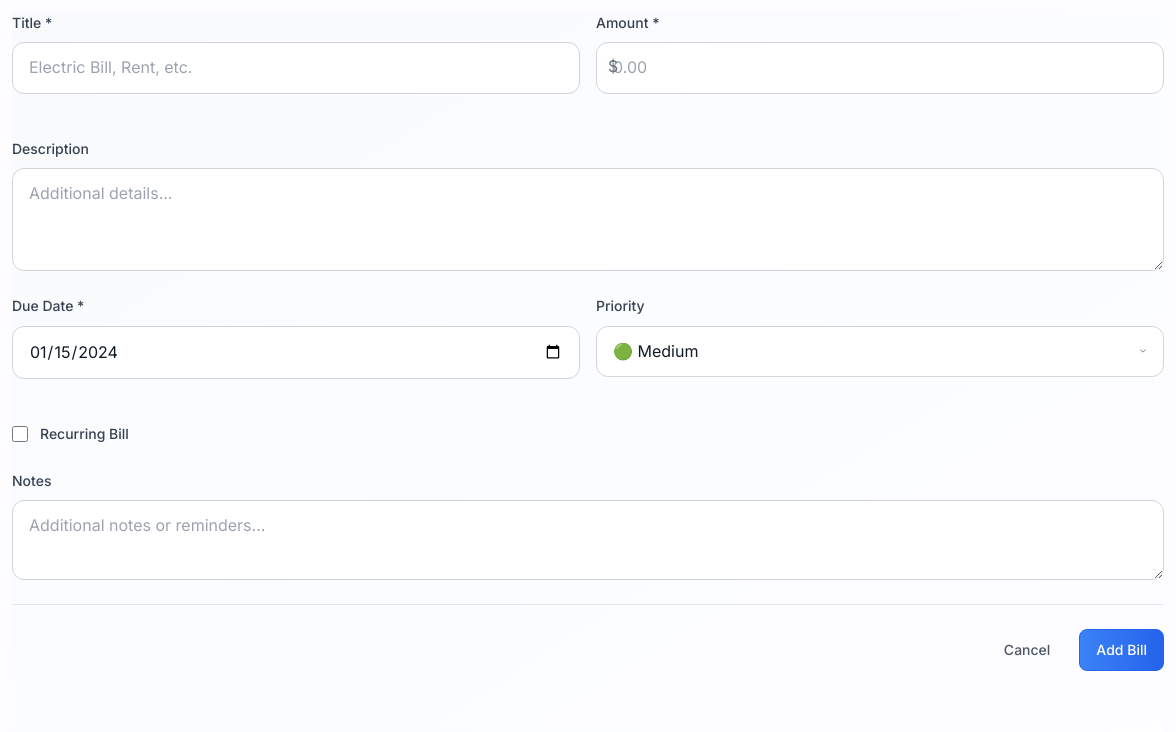
BillForm - Simple Tests › shows recurrence options when recurring is checked
Click the checkbox labelled "Recurring Bill". click: click(20, 434)
box: [12,426,28,442]
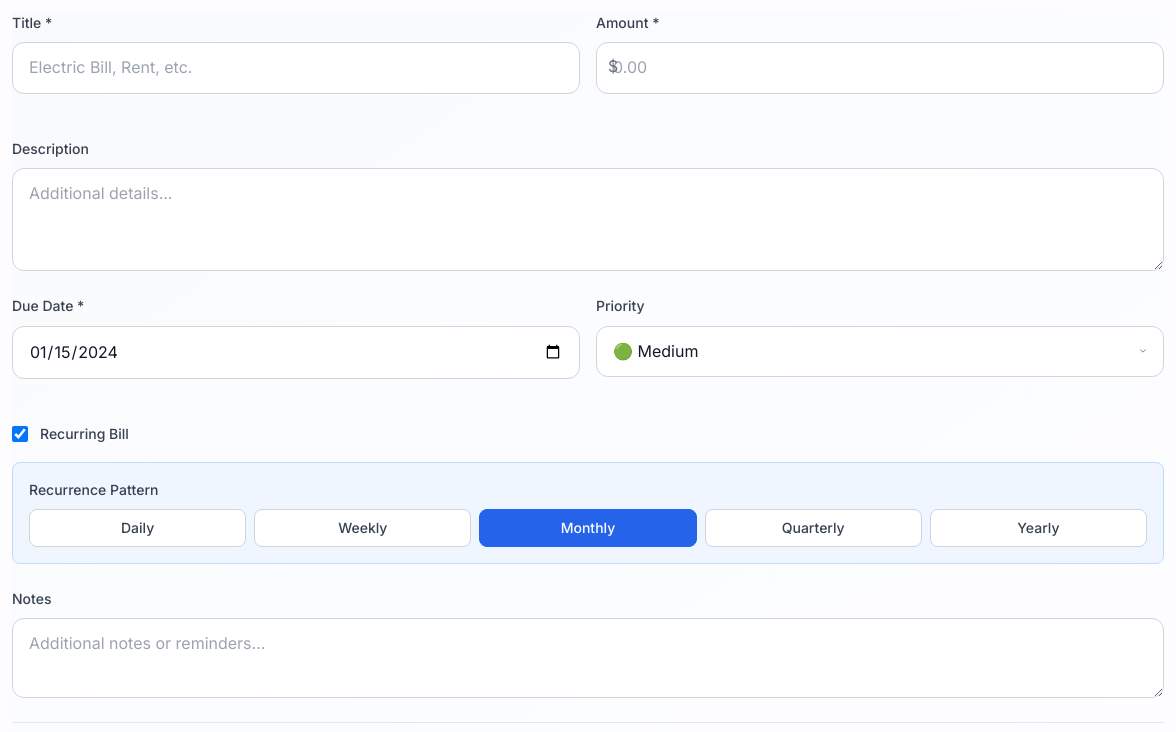
Result: the text "Recurrence Pattern" is shown at [29,480,158,498]
Result: the button "Daily" is shown at [29,509,246,547]
Result: the button "Weekly" is shown at [254,509,471,547]
